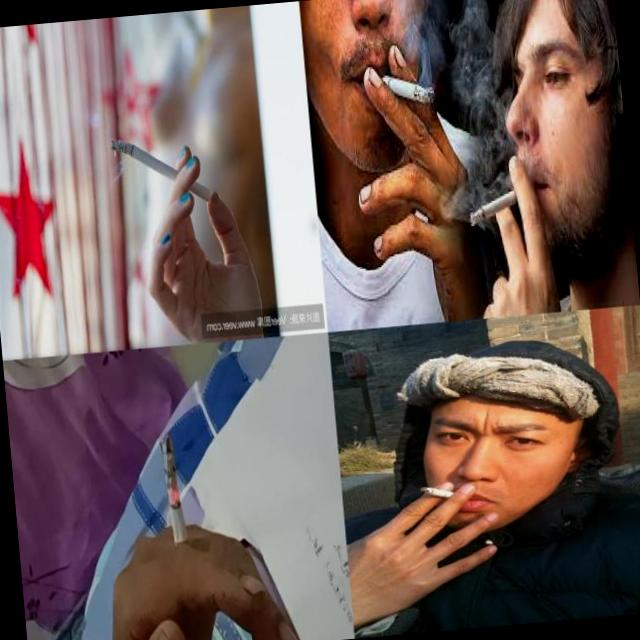smoke: (84, 430, 300, 640), (110, 128, 265, 346), (342, 32, 473, 276), (342, 481, 504, 636), (466, 184, 529, 227)
